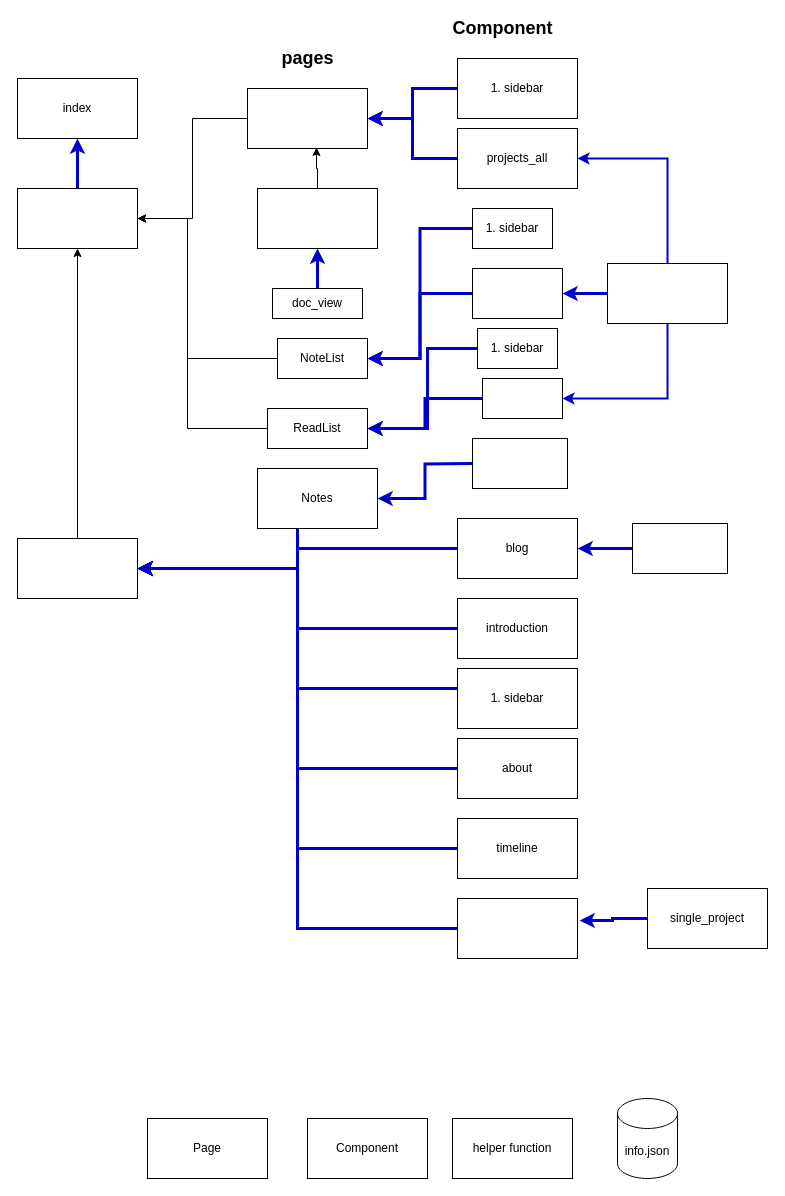
This 785x1196 diagram has some shape labels left out. The centre of each missing label's shape, as x and y in pixels:
"App.js - router" goes at pixel 77 218.
"home" goes at pixel 77 568.
"md_view" goes at pixel 667 293.
"note_list" goes at pixel 517 293.
"project_detail_heper" goes at pixel 317 218.
"projects" goes at pixel 517 928.
"ProjectsOverview" goes at pixel 307 118.
"reading_list" goes at pixel 522 398.
"single_note" goes at pixel 520 463.
"single_reading" goes at pixel 680 548.
